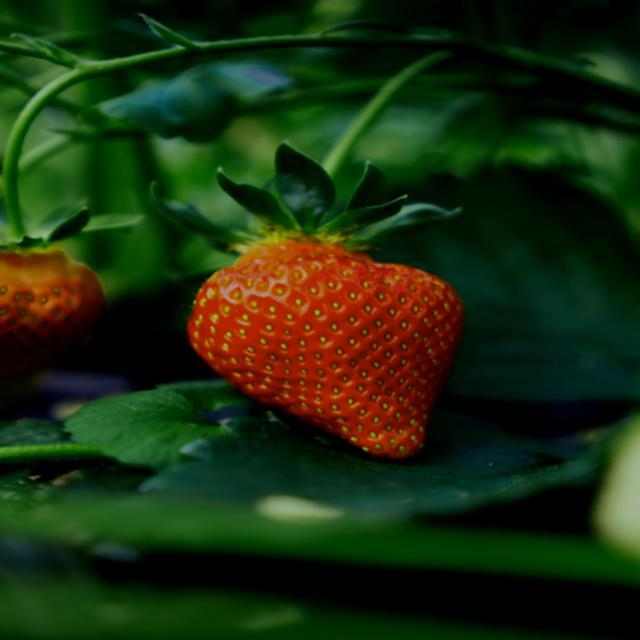strawberry: (188, 238, 462, 458), (0, 249, 104, 377)
